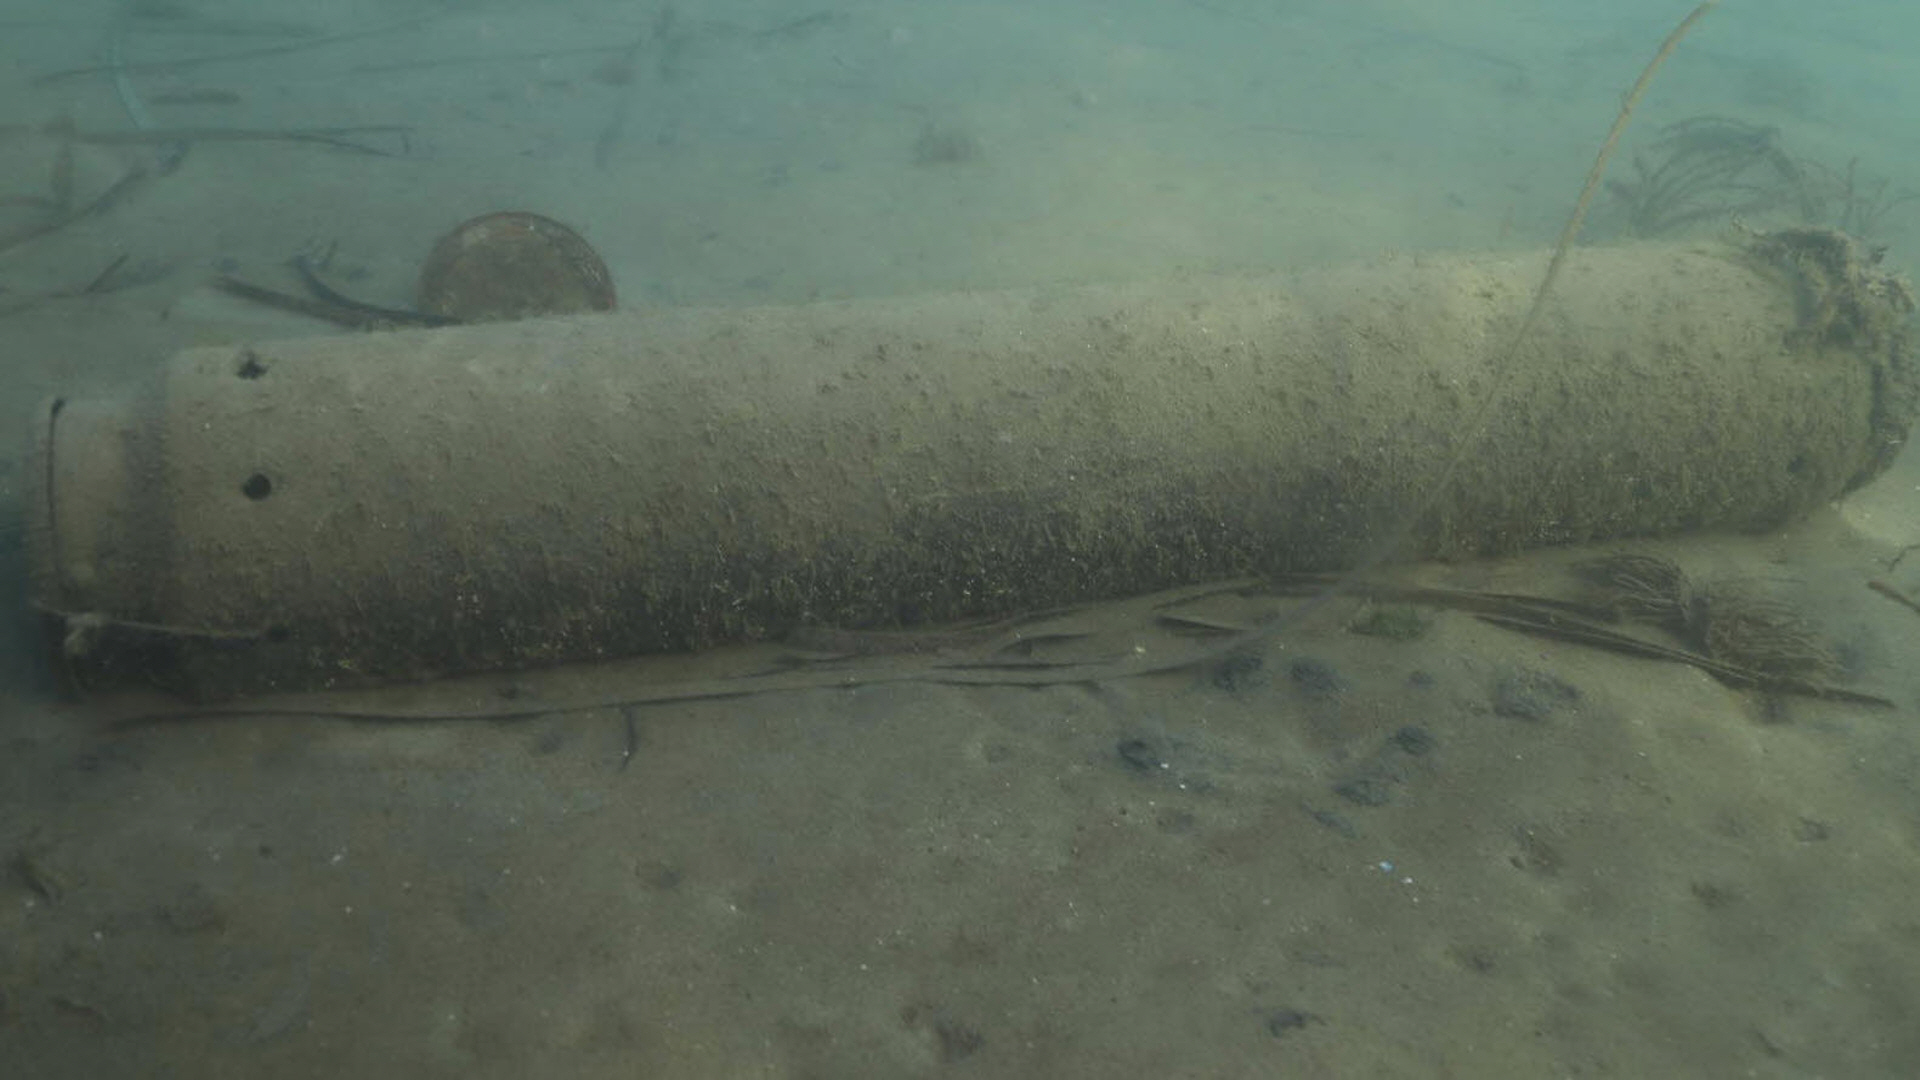eel fish trap: (26, 223, 1920, 705)
